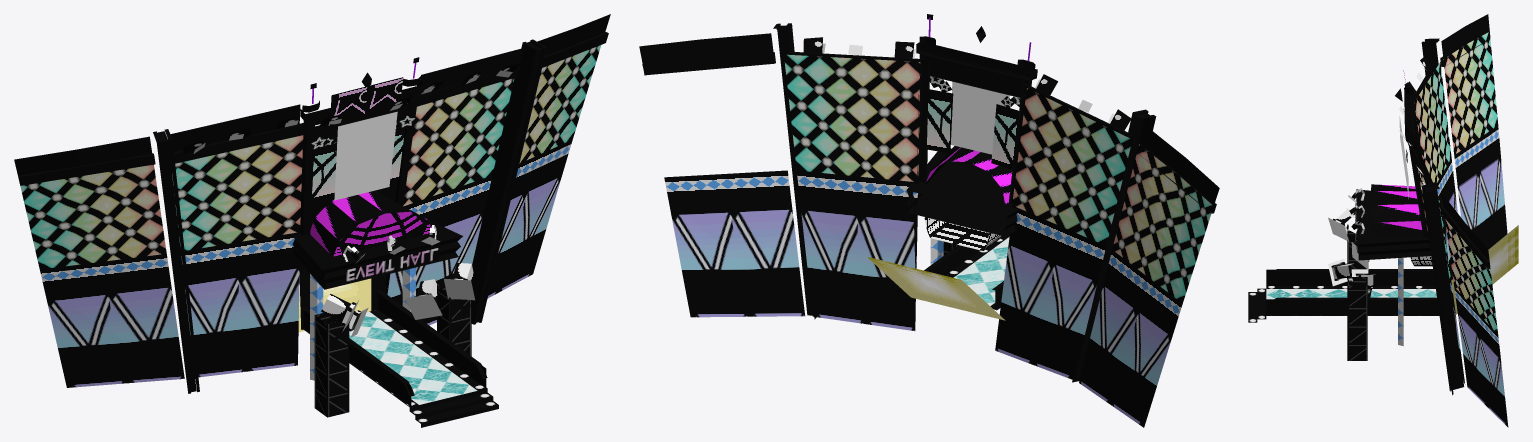
3 views of the same model, side by side, from view 1: azimuth 30°, elevation 25°; view 2: azimuth 150°, elevation 25°; view 3: azimuth 270°, elevation 25° (orthographic). The views are drawn at different scales.
Visible parts, largest first — view 1: fasout_Fusigi; view 2: fasout_Fusigi; view 3: fasout_Fusigi.
Part boxes in pixels (x1,y1,x2,y2): fasout_Fusigi: [14, 14, 610, 427]; fasout_Fusigi: [639, 14, 1219, 427]; fasout_Fusigi: [1248, 14, 1518, 427].
Bounding box in the file's own units: 9.06 × 4.5 × 4.41.
28 materials, 28 textured.
